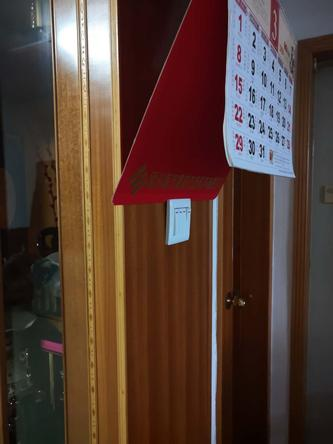switch: (175, 206, 191, 237)
